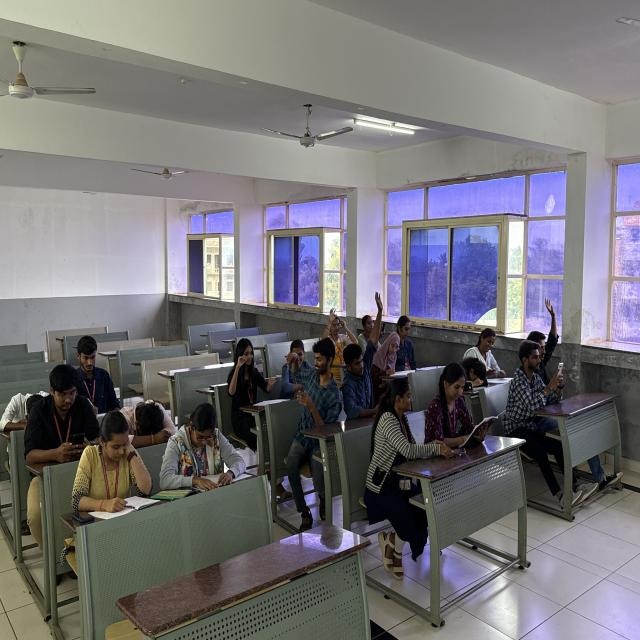Hand Rising: (338, 292, 385, 404), (526, 292, 565, 364), (322, 301, 360, 366)
Reading: (72, 410, 154, 512), (159, 404, 246, 493), (435, 371, 489, 444)
Sleeping: (125, 393, 178, 450), (1, 382, 51, 438), (463, 355, 491, 395)
Using Phone: (22, 362, 99, 464), (502, 342, 566, 411), (361, 315, 386, 341)
Writing: (70, 331, 128, 424), (480, 327, 514, 387), (374, 329, 406, 385)
